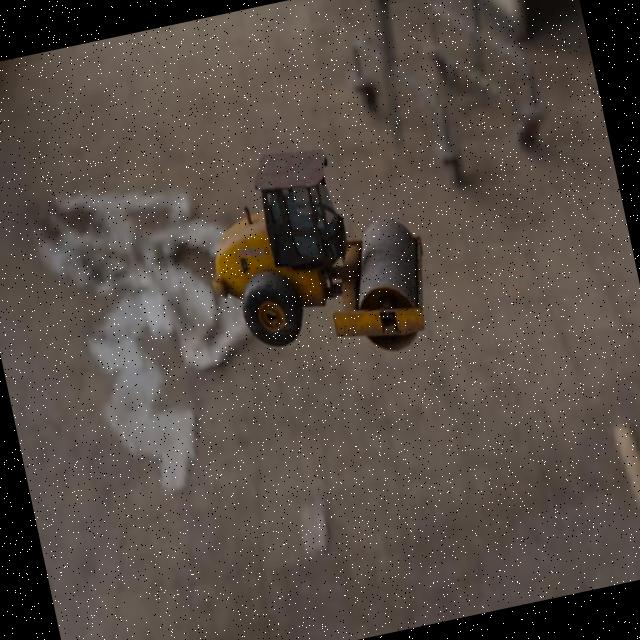Roller: (187, 125, 443, 385)
